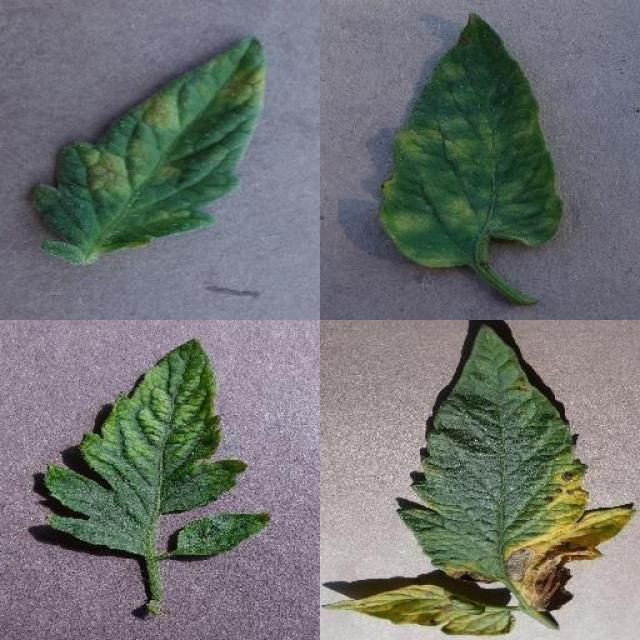Early Blight: (395, 322, 635, 606)
